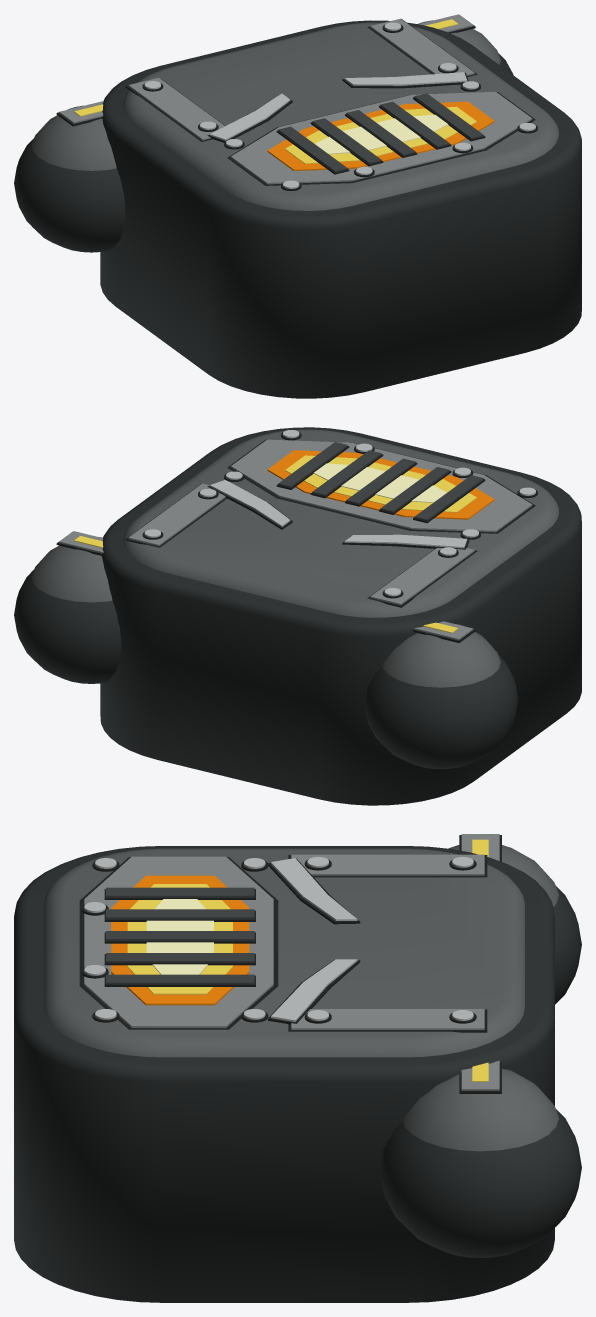
File: body_fornalha_industrial.fbx
The picture shows the model from 3 angles, top to bottom: view 1: azimuth 30°, elevation 25°; view 2: azimuth 150°, elevation 25°; view 3: azimuth 270°, elevation 25°; orthographic projection. The views are drawn at different scales.
Visible parts, largest first — view 1: body_fornalha_industrial_corpo, body_fornalha_industrial_mao_esq, body_fornalha_industrial_corpo_neon, body_fornalha_industrial_mao; view 2: body_fornalha_industrial_corpo, body_fornalha_industrial_mao_esq, body_fornalha_industrial_mao, body_fornalha_industrial_corpo_neon; view 3: body_fornalha_industrial_corpo, body_fornalha_industrial_mao, body_fornalha_industrial_corpo_neon, body_fornalha_industrial_mao_esq.
Part boxes in pixels (bbox=[...]): body_fornalha_industrial_corpo: bbox=[100, 18, 581, 398]; body_fornalha_industrial_mao_esq: bbox=[14, 101, 125, 252]; body_fornalha_industrial_corpo_neon: bbox=[267, 101, 494, 170]; body_fornalha_industrial_mao: bbox=[418, 14, 513, 74]; body_fornalha_industrial_corpo: bbox=[100, 427, 581, 805]; body_fornalha_industrial_mao_esq: bbox=[364, 621, 518, 769]; body_fornalha_industrial_mao: bbox=[14, 531, 121, 683]; body_fornalha_industrial_corpo_neon: bbox=[267, 450, 494, 519]; body_fornalha_industrial_corpo: bbox=[14, 846, 554, 1302]; body_fornalha_industrial_mao: bbox=[380, 1060, 581, 1257]; body_fornalha_industrial_corpo_neon: bbox=[111, 875, 249, 1005]; body_fornalha_industrial_mao_esq: bbox=[449, 834, 581, 1004].
Bounding box in the file's own units: 5.4 × 2.07 × 4.2.
1 material, 1 textured.
